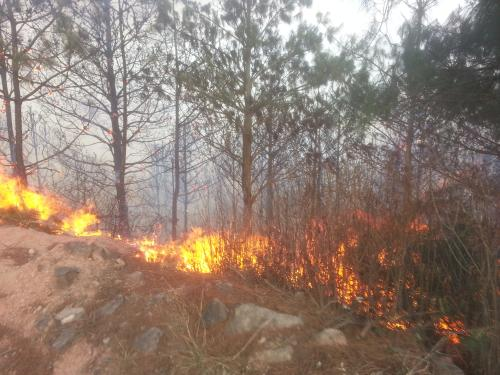fire: (4, 169, 102, 238), (140, 226, 227, 273)
smoke: (136, 120, 229, 221), (28, 90, 115, 164)
